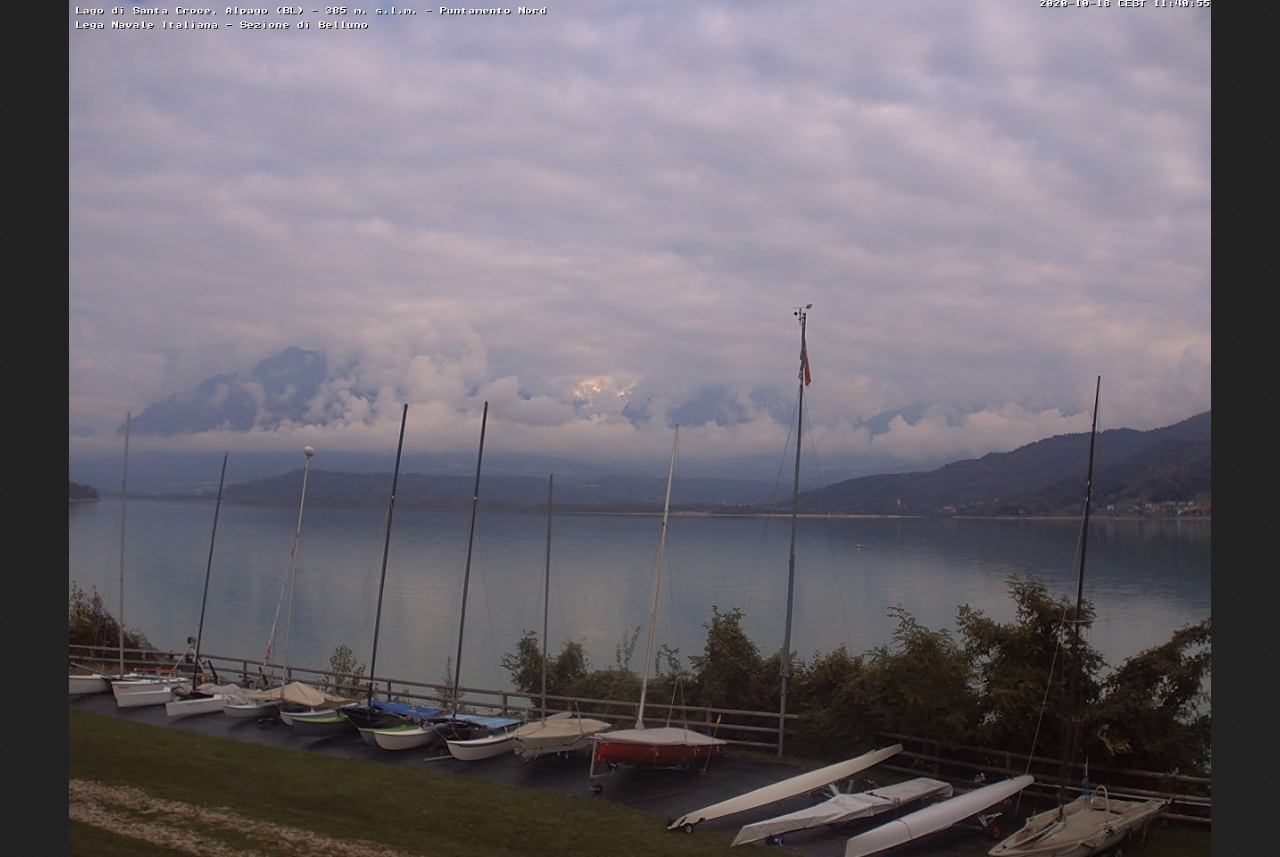no: (793, 309, 815, 384)
